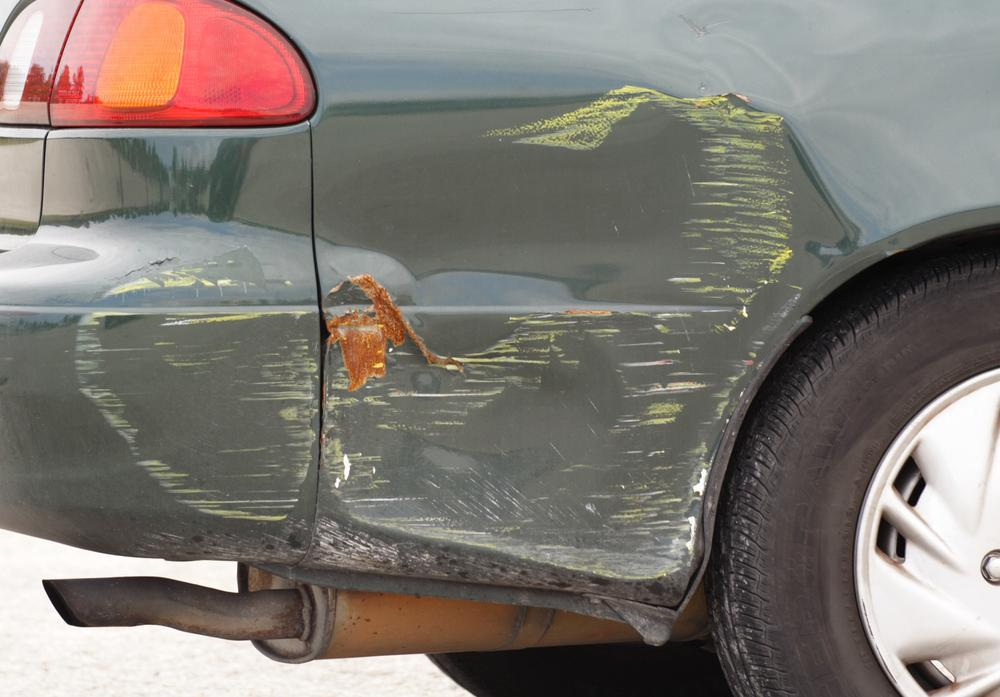scratch: (321, 79, 805, 584), (66, 245, 324, 527)
